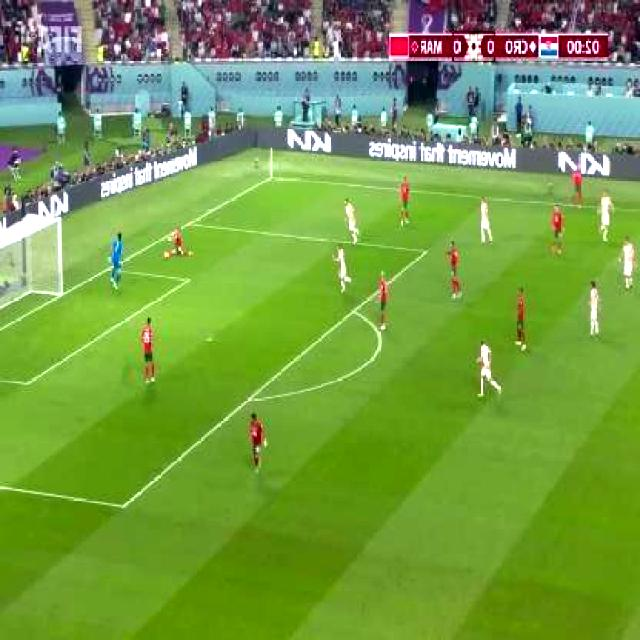bigarea_bottom_inner: (116, 492, 132, 518)
bigarea_top_inner: (422, 243, 432, 259)
bigarea_top_outter: (187, 218, 196, 230)
bottom_arc_area_intersection: (245, 390, 257, 408)
corner: (270, 174, 278, 181)
smallarea_bottom_inner: (22, 372, 36, 394)
smallarea_top_inner: (183, 272, 194, 286)
top_arc_area_intersection: (349, 303, 362, 320)
